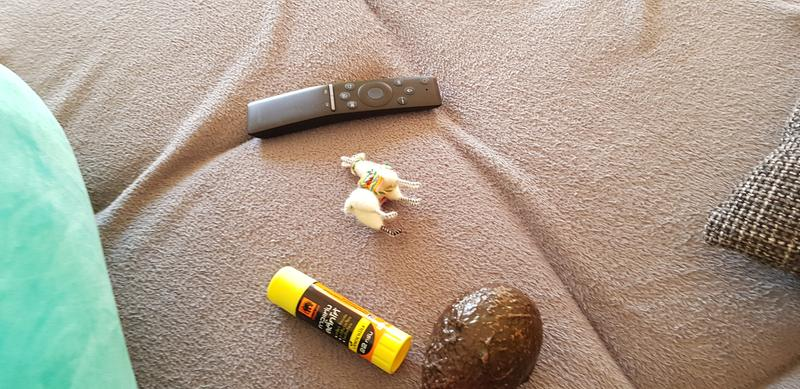Avocado: (424, 282, 550, 389)
Glue-Stick: (263, 262, 421, 382)
Horse-Toy: (328, 150, 429, 244)
